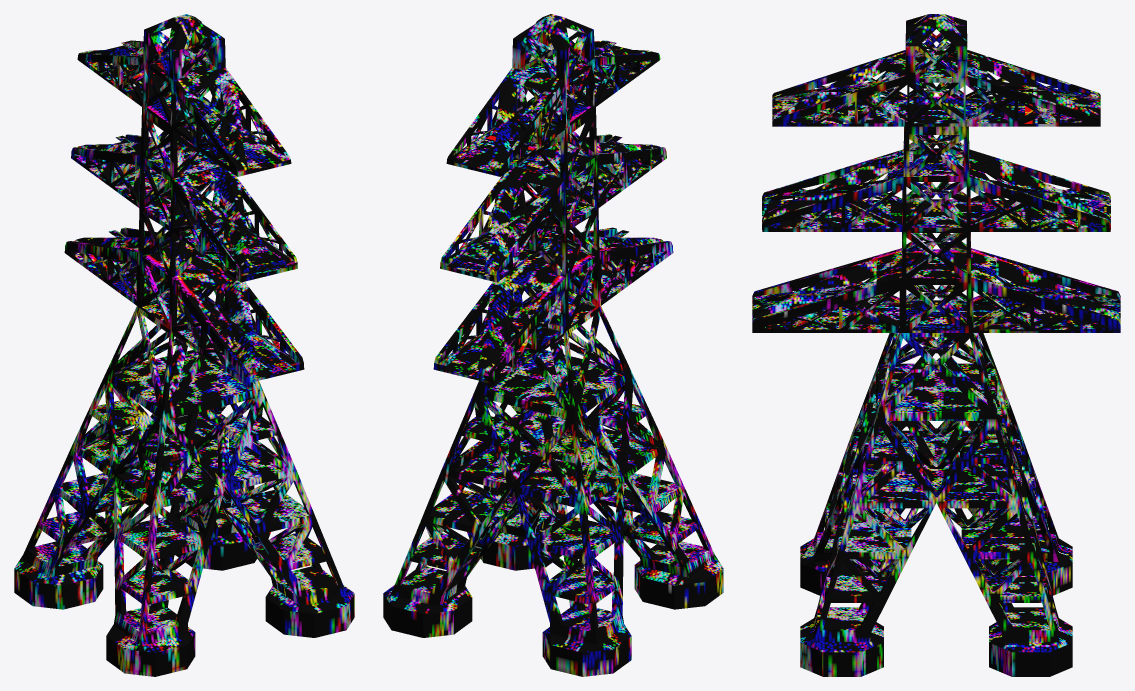
Rendered from moontower.obj.
The picture shows the model from 3 angles, left to right: view 1: azimuth 30°, elevation 25°; view 2: azimuth 150°, elevation 25°; view 3: azimuth 270°, elevation 25°; orthographic projection. The views are drawn at different scales.
Visible parts, largest first — view 1: Cube; view 2: Cube; view 3: Cube.
Part boxes in pixels (left/top/right/bottom): Cube: left=14, top=14, right=354, bottom=676; Cube: left=383, top=14, right=723, bottom=676; Cube: left=752, top=14, right=1120, bottom=676.
Size of the model in its own units: 3.26 by 7.94 by 4.4.
